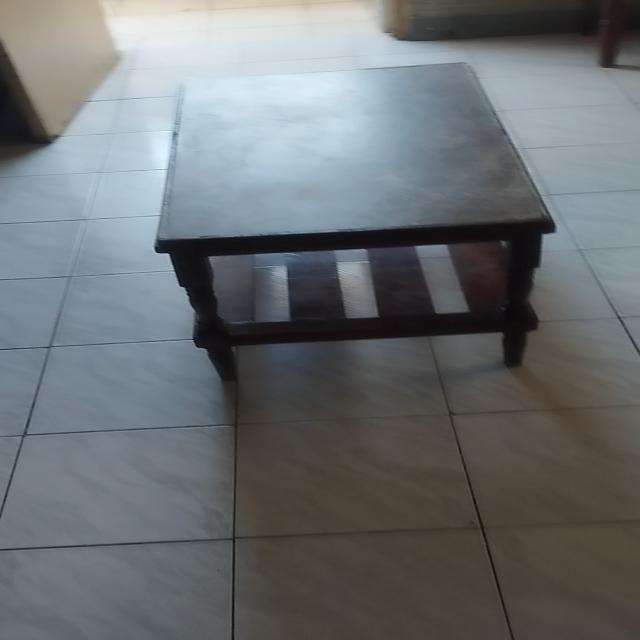table: (141, 54, 558, 380)
